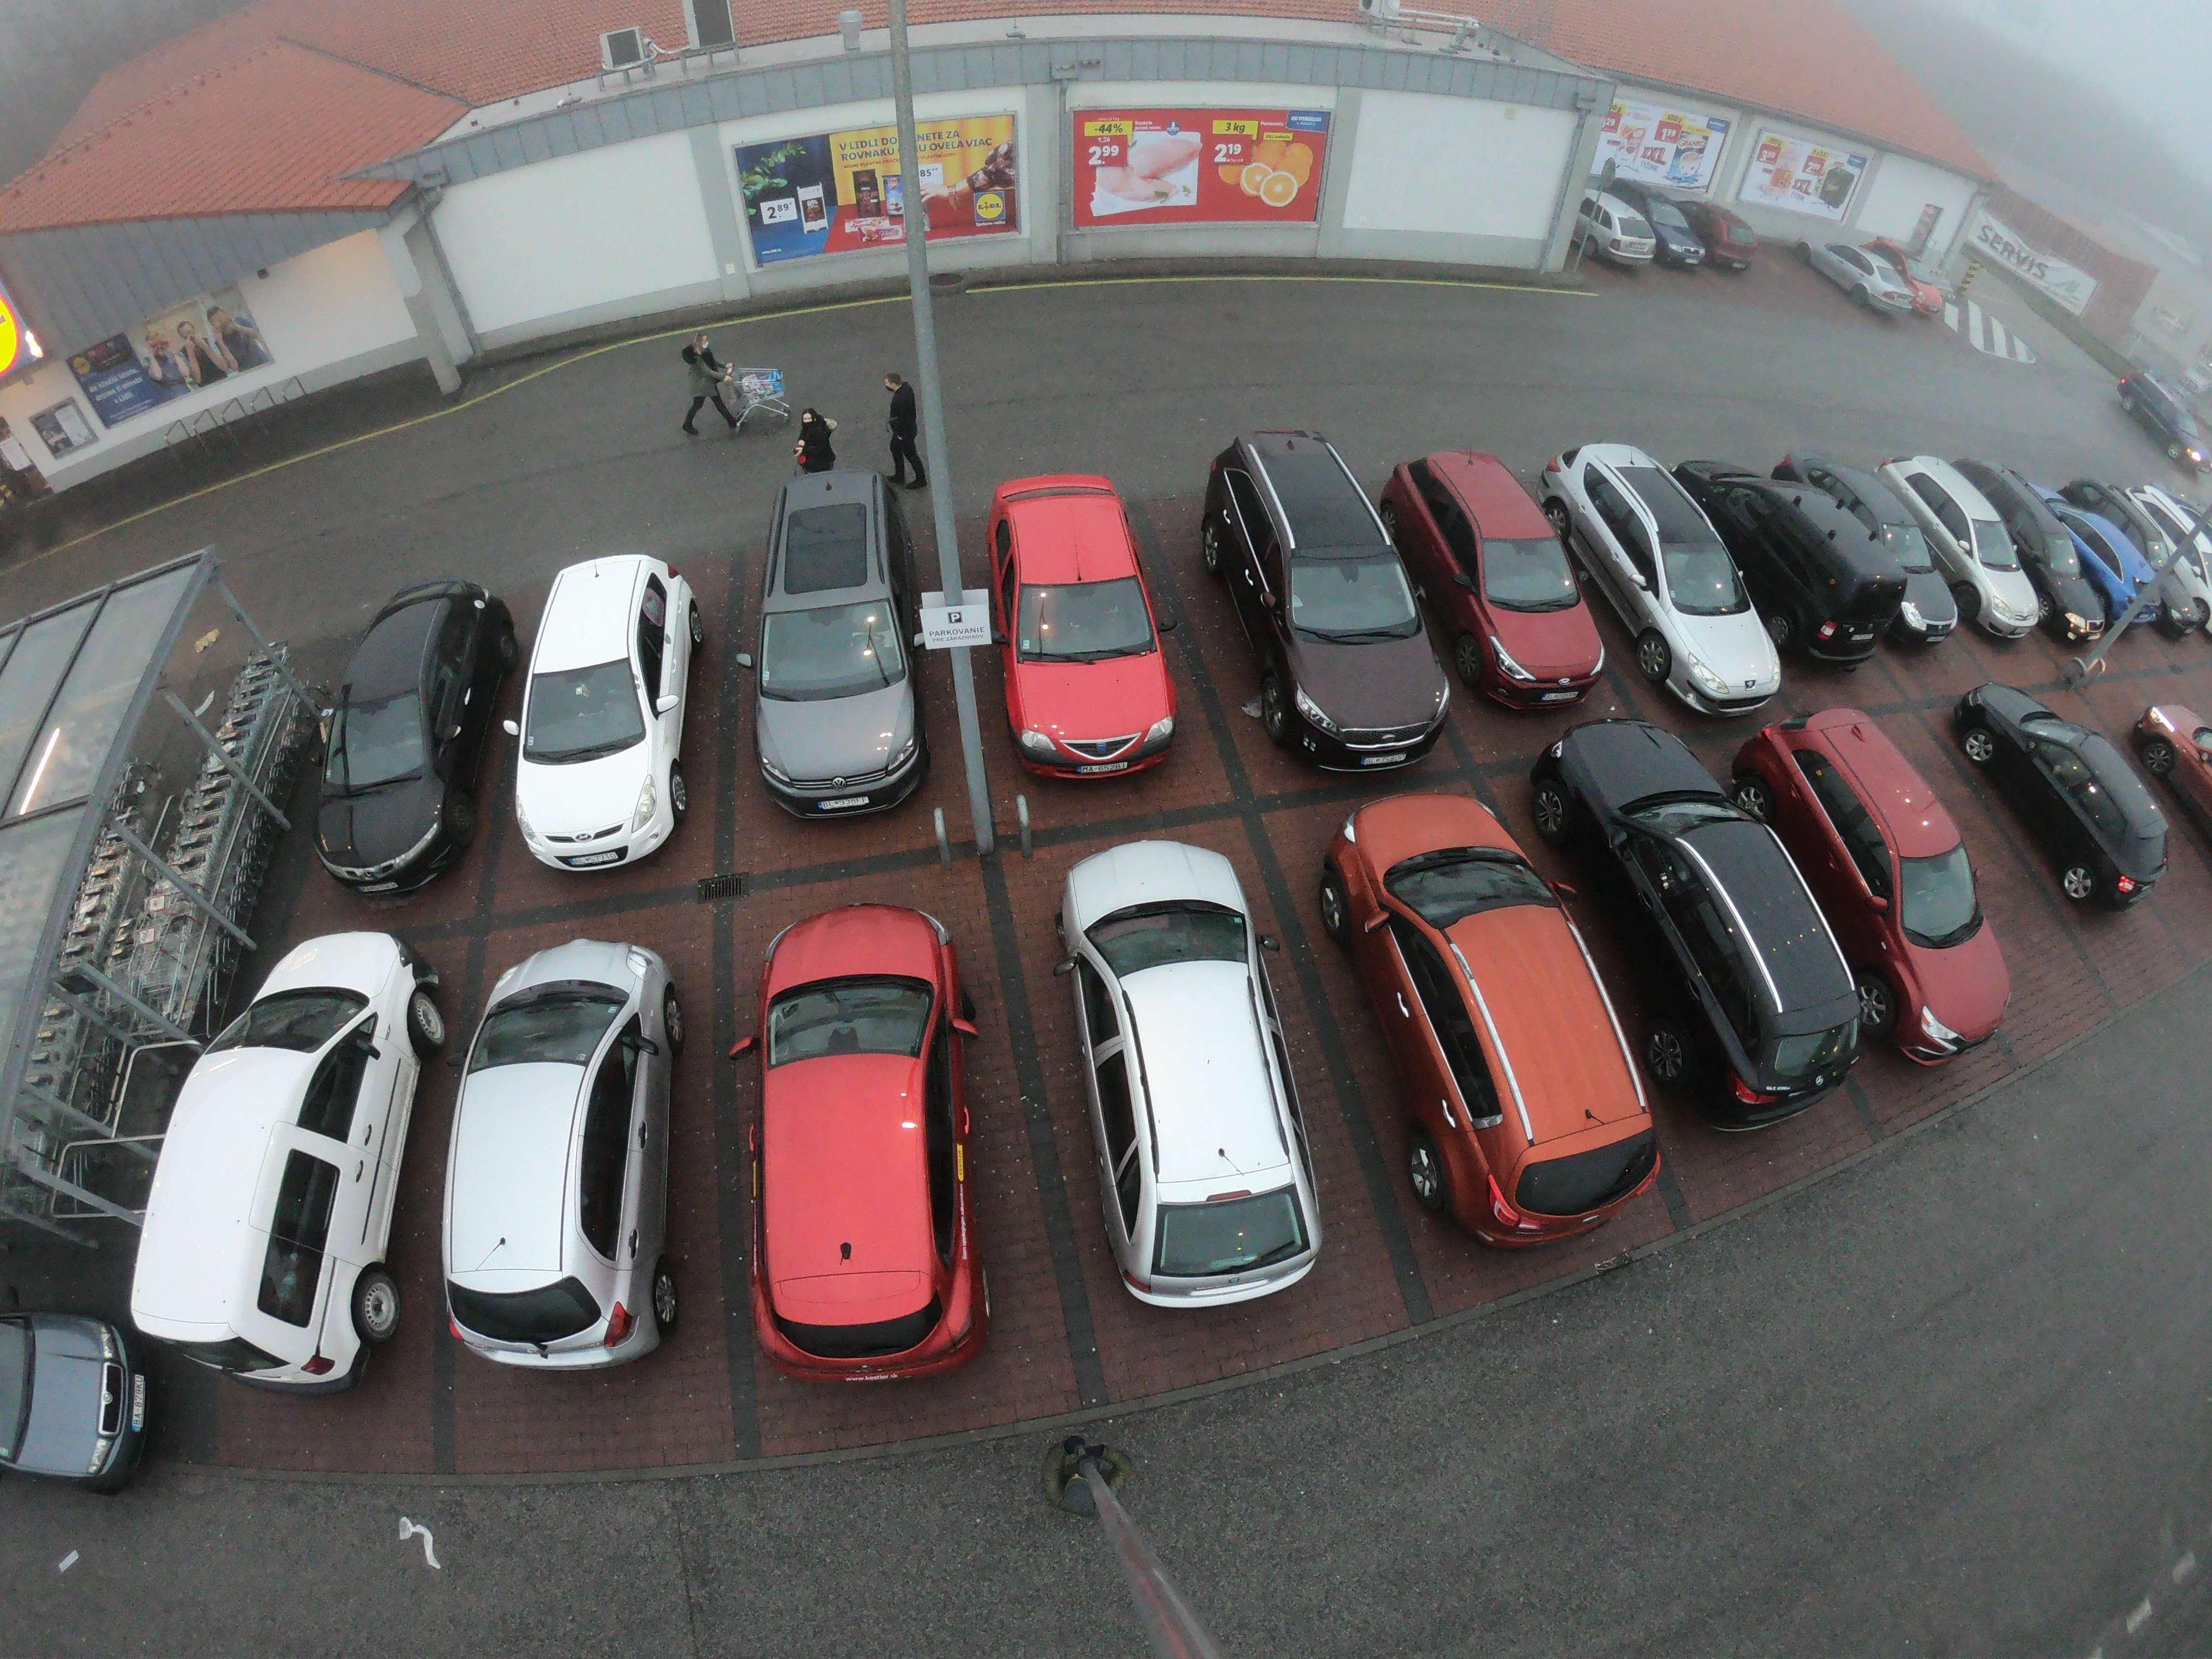empty: (1045, 828, 1359, 1351), (697, 896, 1022, 1394), (1331, 791, 1683, 1244), (146, 924, 437, 1427), (418, 931, 702, 1392), (1578, 742, 1876, 1126), (1747, 701, 2026, 1051), (1204, 441, 1474, 758), (725, 423, 932, 833), (481, 549, 700, 866), (982, 474, 1191, 781), (305, 592, 503, 892), (1566, 451, 1789, 716), (1399, 455, 1604, 711), (1958, 692, 2182, 910), (1735, 457, 1942, 667), (1904, 467, 2066, 645), (10, 1310, 153, 1500), (2026, 490, 2156, 647), (2118, 498, 2212, 634), (2149, 704, 2212, 849)
occupied: (1916, 770, 2050, 922)
